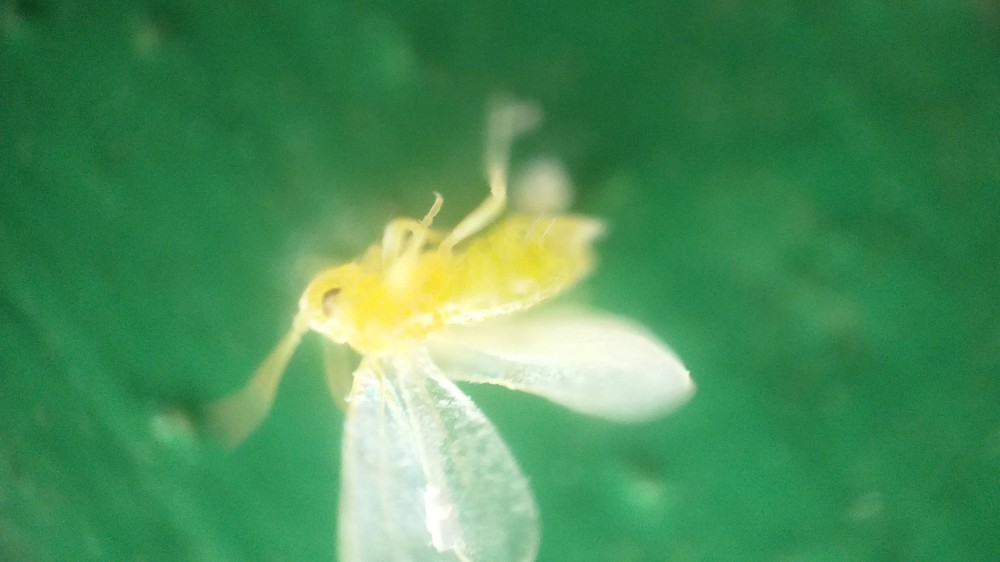Mosca Blanca: (209, 104, 702, 562)
